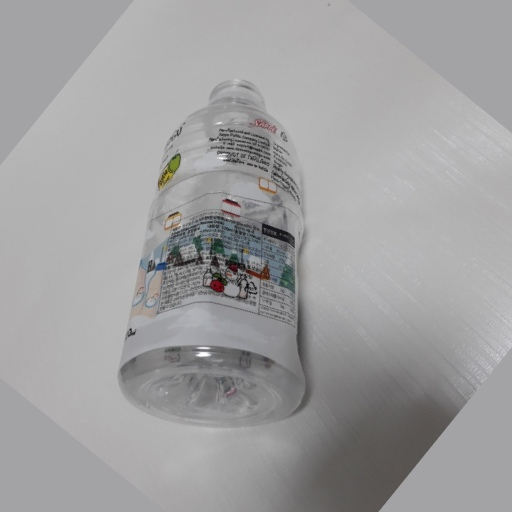Plastic_0: (121, 79, 312, 428)
